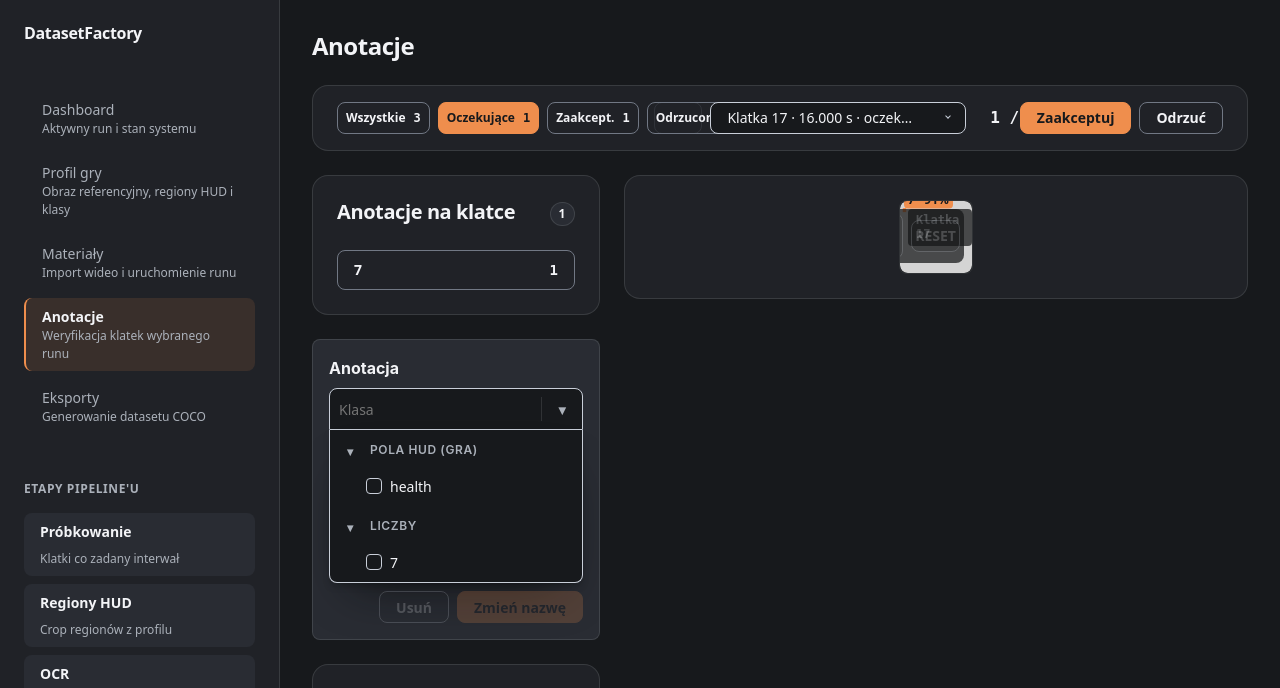
Test: FE-009-FIX1 — Enter belongs to the focused control inside the panel › treats the frame inspector as outside the annotation panel and discards the preview
Click the button named "Klasa 7, 1 anotacji" at (456, 270), box [337, 250, 575, 290]
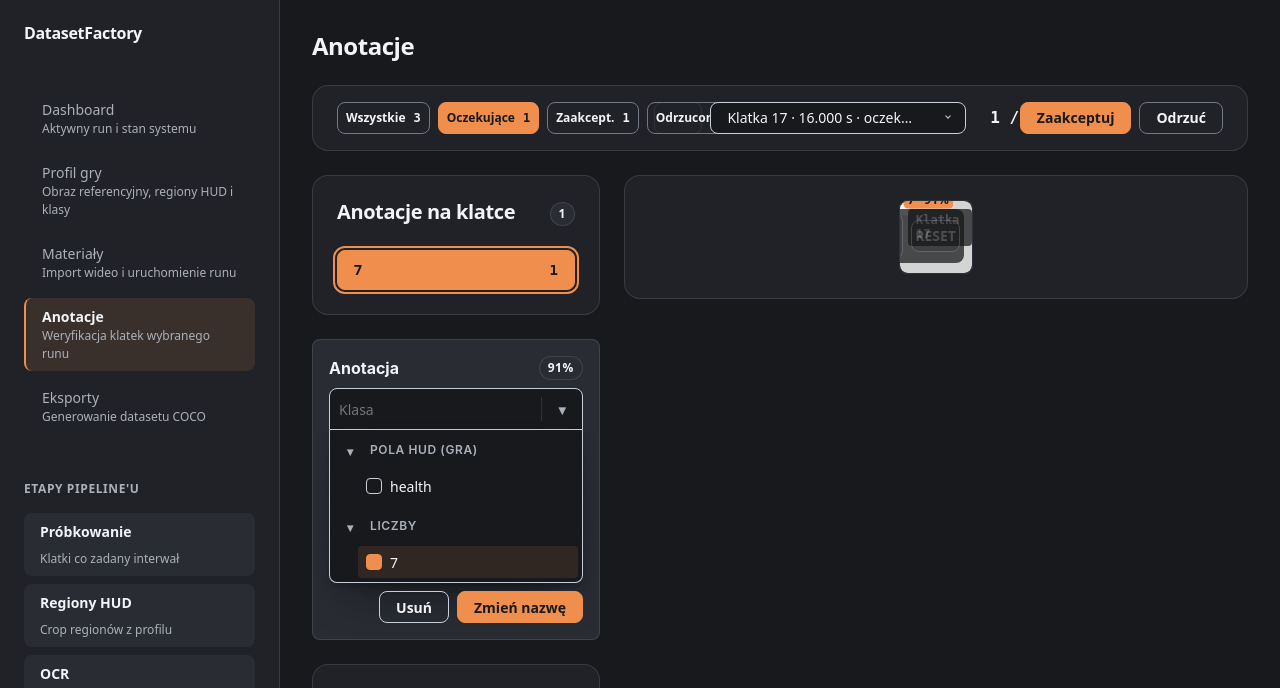
Press Arrowright Arrowright Arrowright
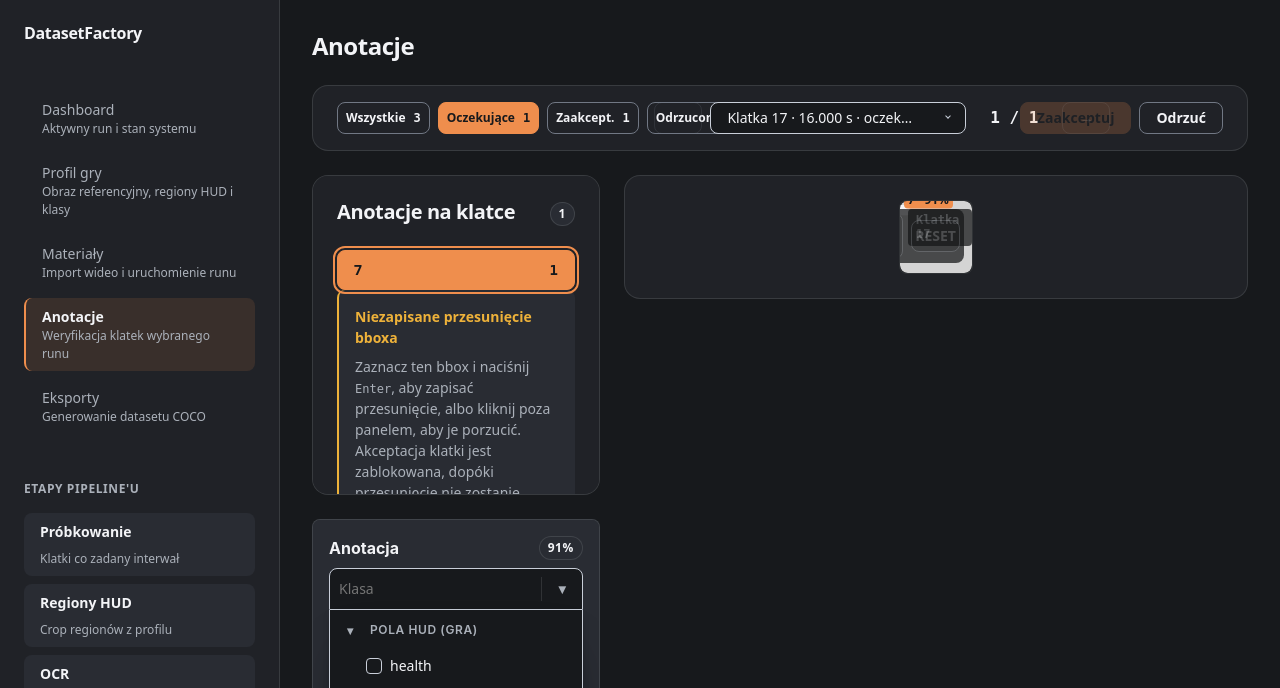
Click the heading "Anotacje na klatce" at (426, 212), box [337, 200, 515, 224]
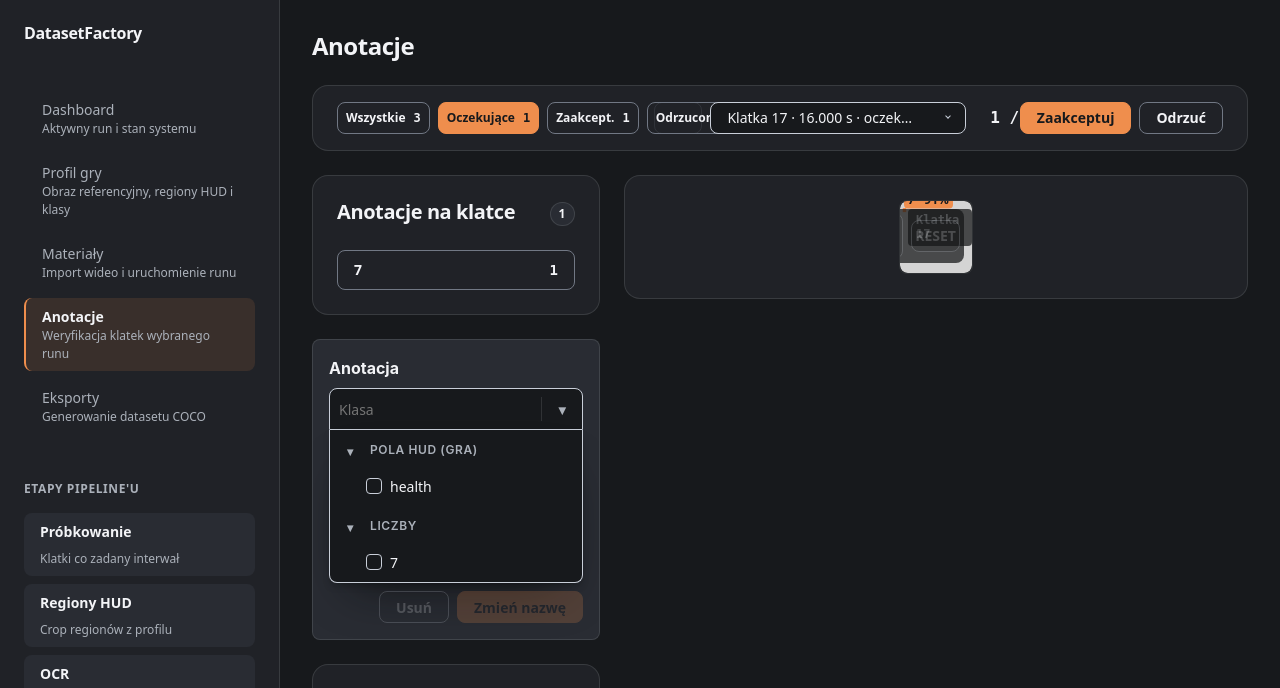
Now the text "Niezapisane" is gone
